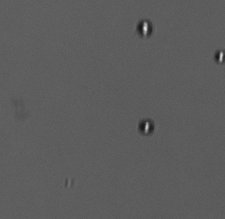Living Cell: (135, 116, 155, 136), (135, 19, 153, 37)
